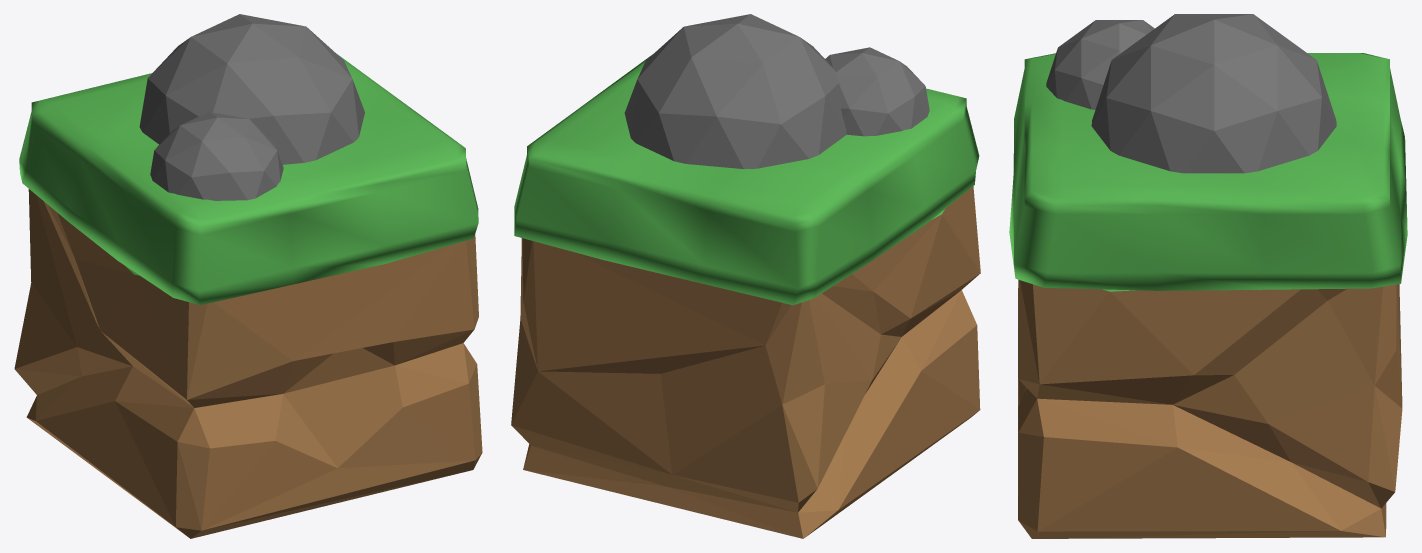
File: TileBaseVar2.fbx
The picture shows the model from 3 angles, left to right: view 1: azimuth 30°, elevation 25°; view 2: azimuth 150°, elevation 25°; view 3: azimuth 270°, elevation 25°; orthographic projection. The views are drawn at different scales.
Parts seen in each view (by area): view 1: Cube.004; view 2: Cube.004; view 3: Cube.004.
Part boxes in pixels (x1=…): Cube.004: x1=14, y1=14, x2=482, y2=538; Cube.004: x1=511, y1=14, x2=980, y2=538; Cube.004: x1=1009, y1=14, x2=1407, y2=538.
Bounding box in the file's own units: 102 × 131 × 105.
